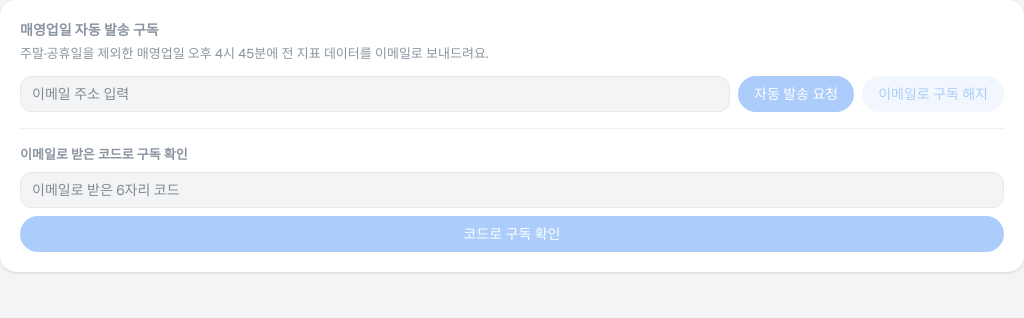
SubscribePanel › shows an error message when the code does not match
Type "user@example.com" into the field labelled "이메일 주소" at (375, 94), box left=20, top=76, right=730, bottom=112
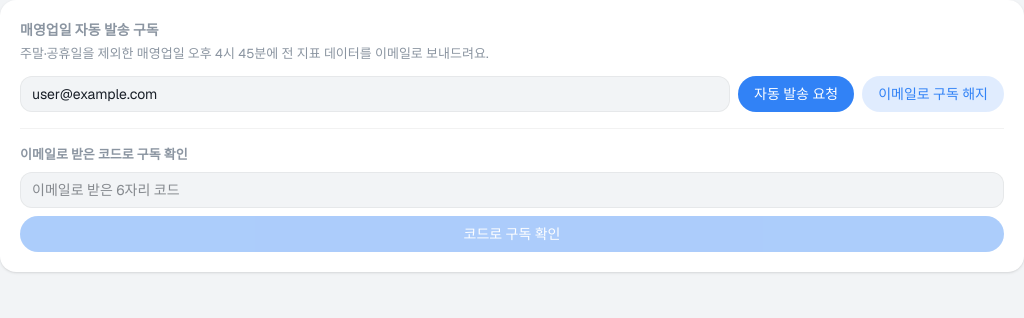
Type "000000" into the field named "확인 코드" at (512, 190), box left=20, top=172, right=1004, bottom=208
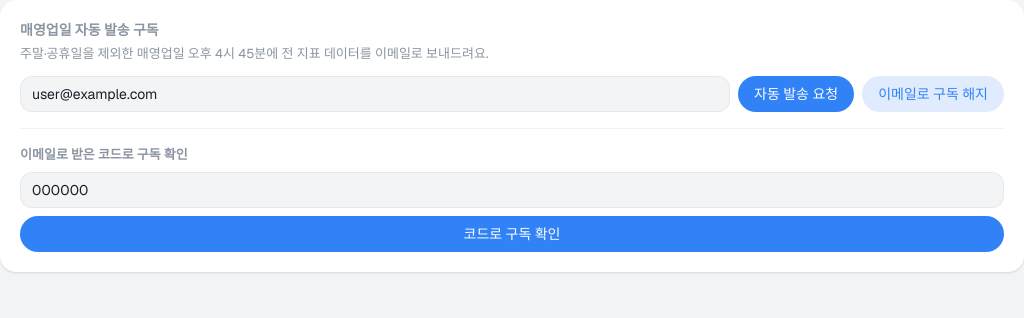
Click the button "코드로 구독 확인" at (512, 234), box left=20, top=216, right=1004, bottom=252
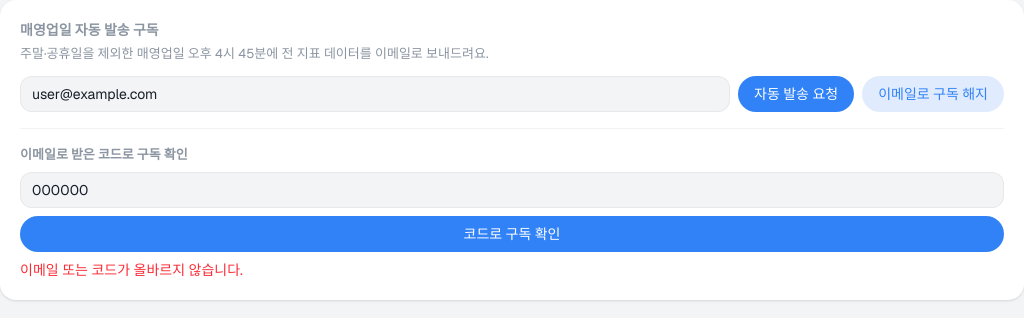
Result: the text "이메일 또는 코드가 올바르지 않습니다." is shown at left=20, top=261, right=243, bottom=279
